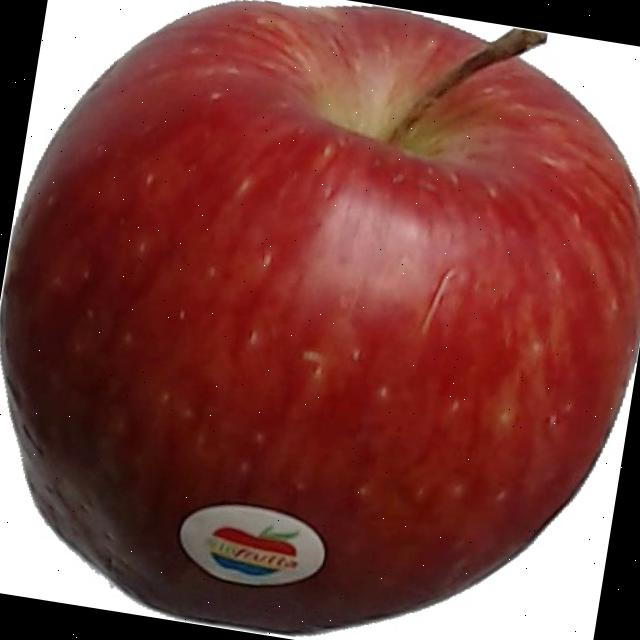apple: (1, 2, 640, 633)
